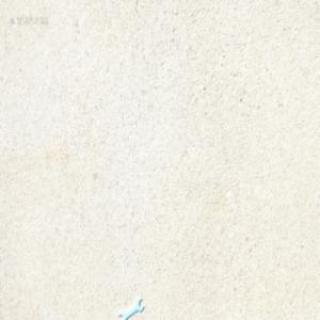Wrenchtrack_idkeyframe: (118, 295, 144, 318)
